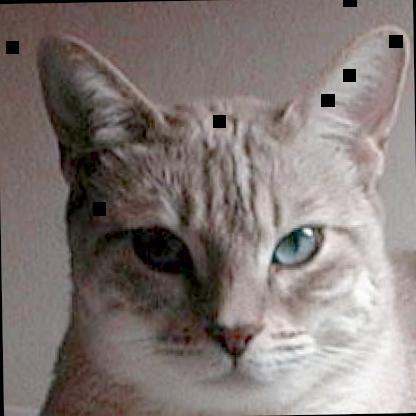cat: (30, 22, 415, 415)
